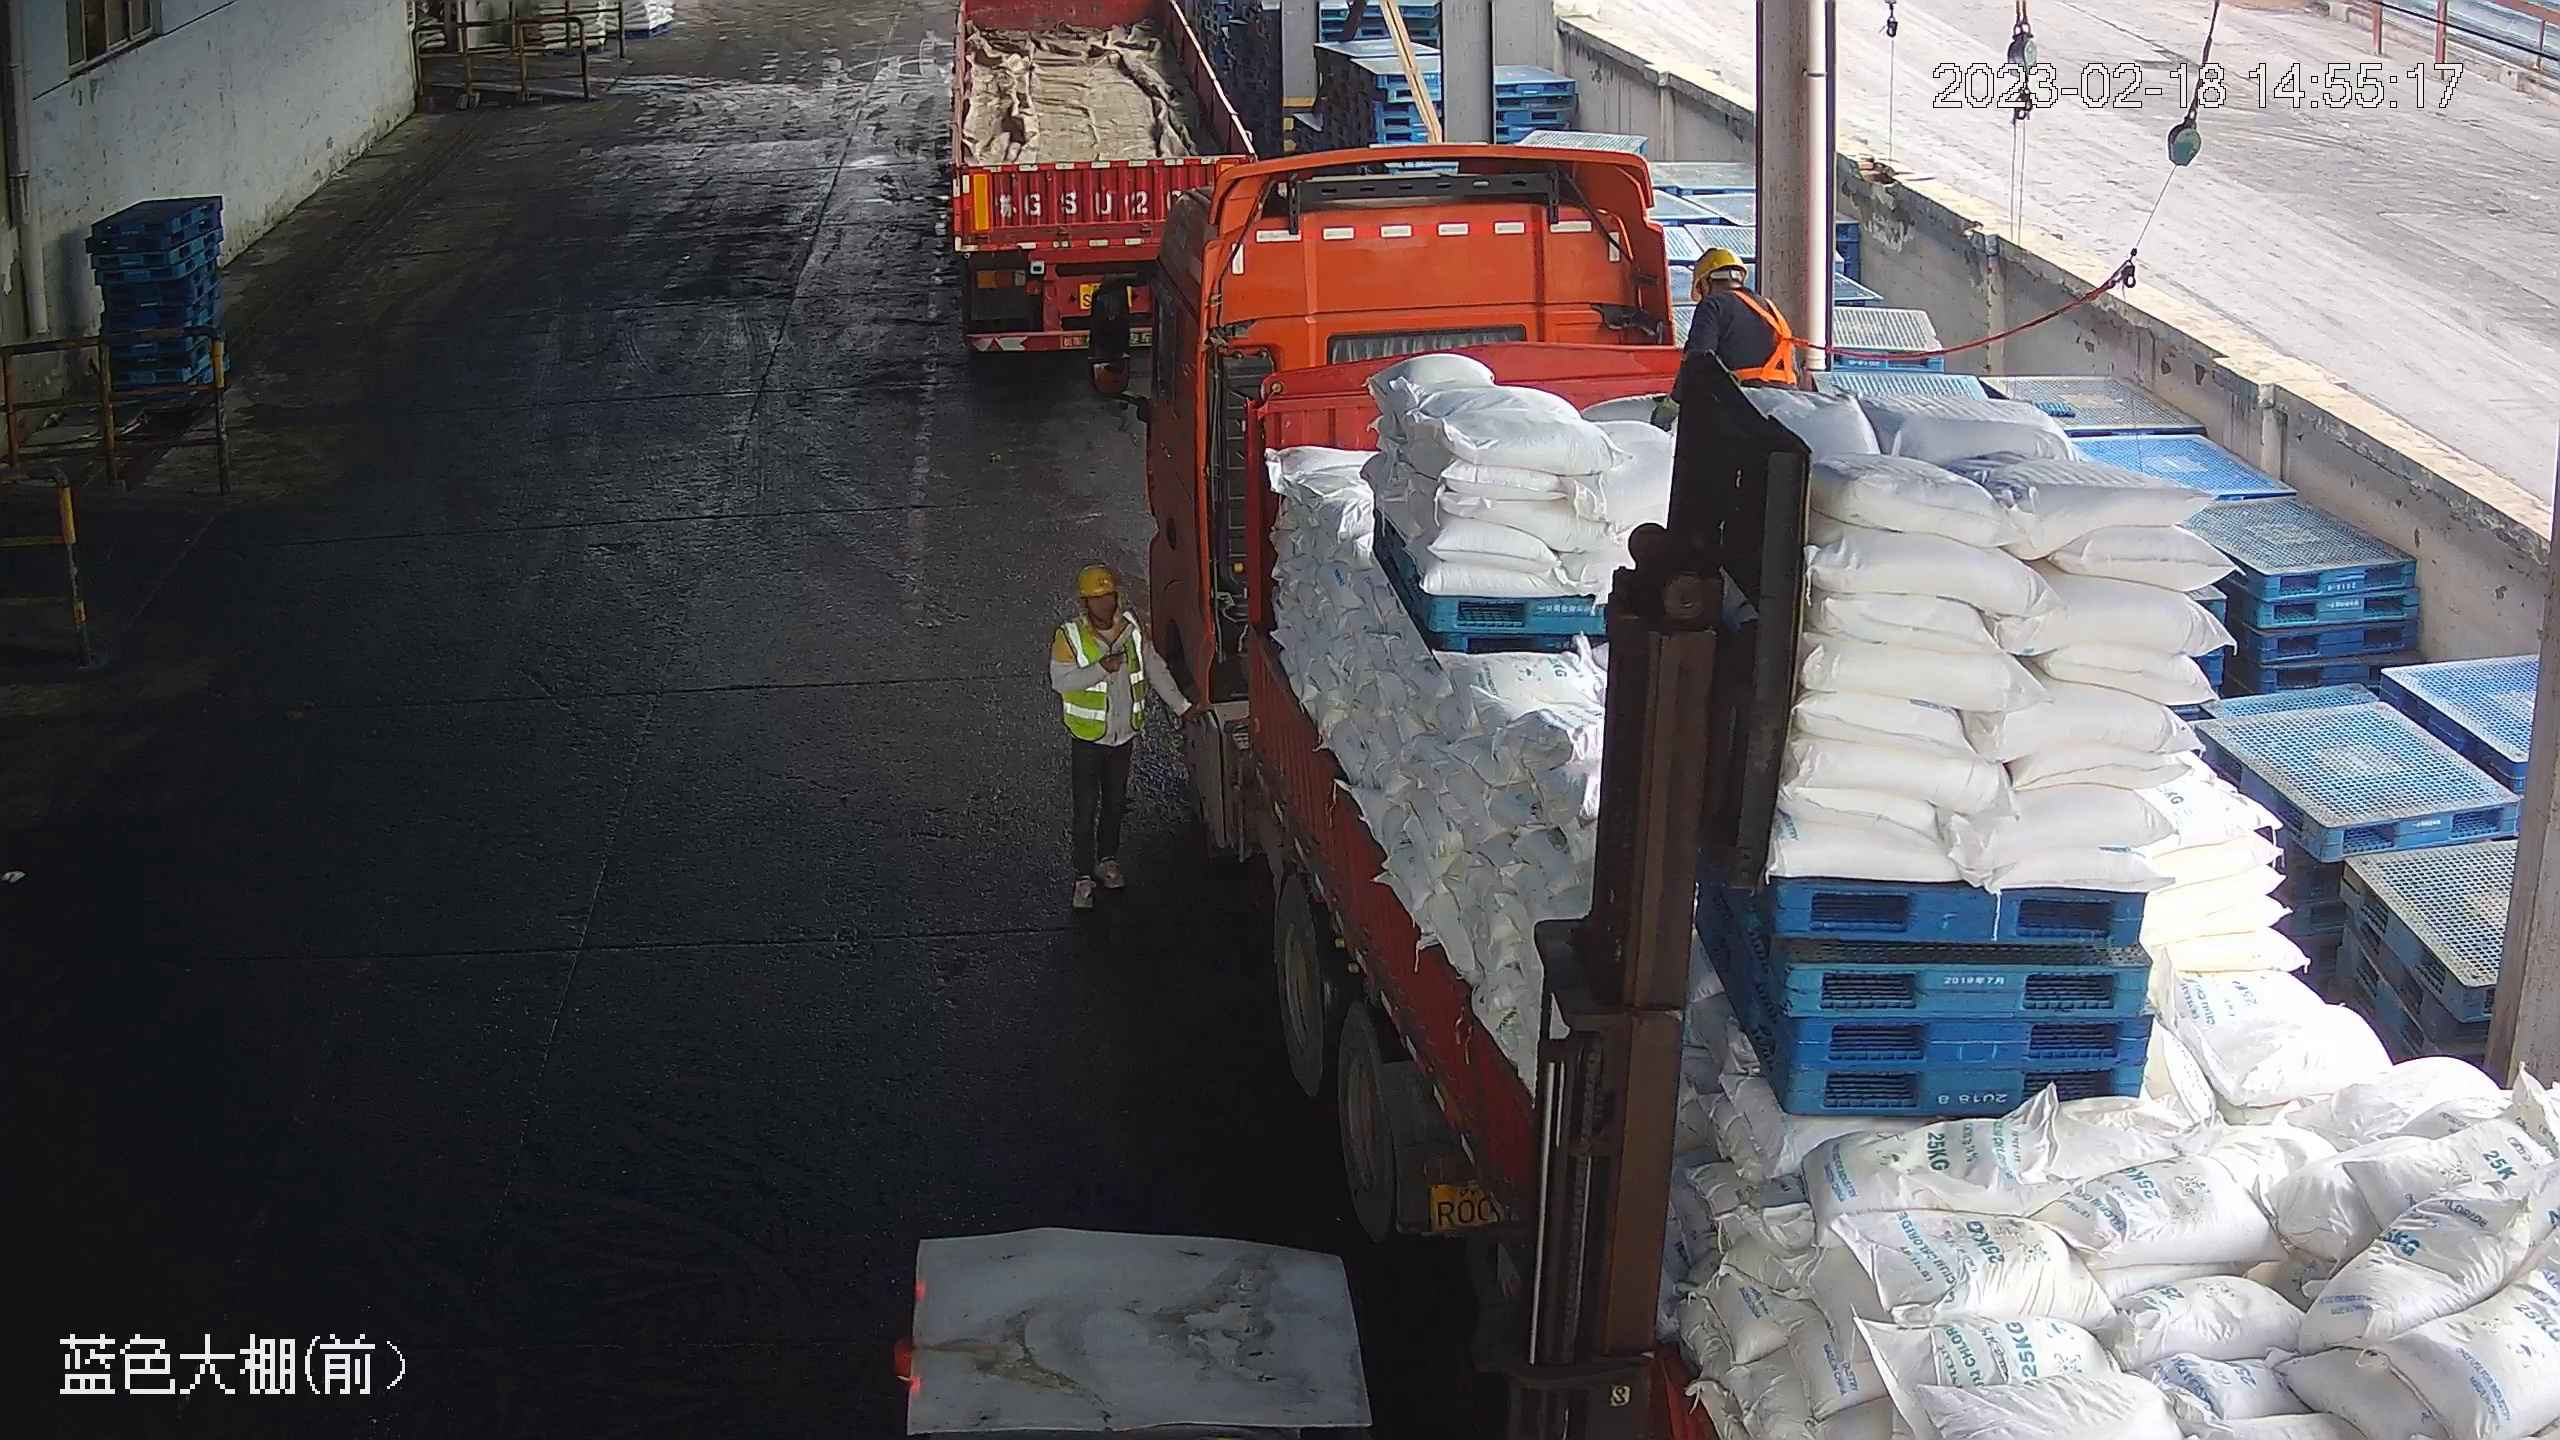belt: (1718, 287, 1804, 382)
head: (1680, 243, 1795, 338), (1050, 564, 1149, 663)
helmet: (1688, 242, 1747, 284), (1074, 564, 1116, 597)
people: (1048, 562, 1169, 908)
truck: (1084, 158, 2558, 1440), (942, 1, 1249, 343)
